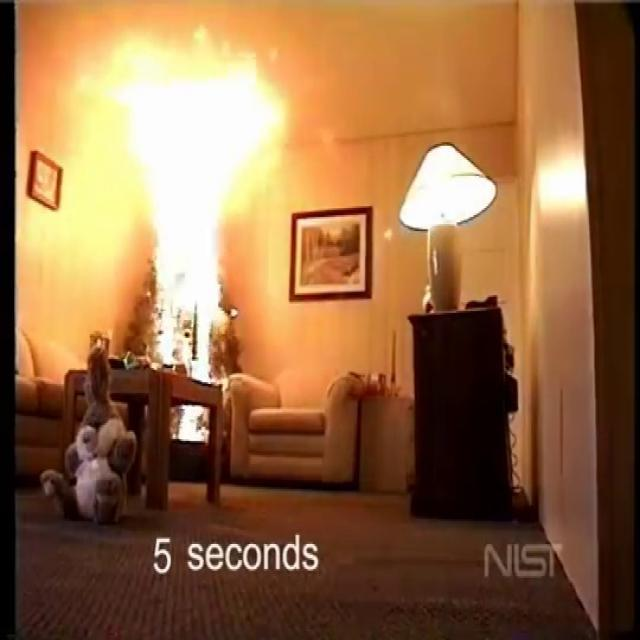Fire: (68, 1, 297, 378)
